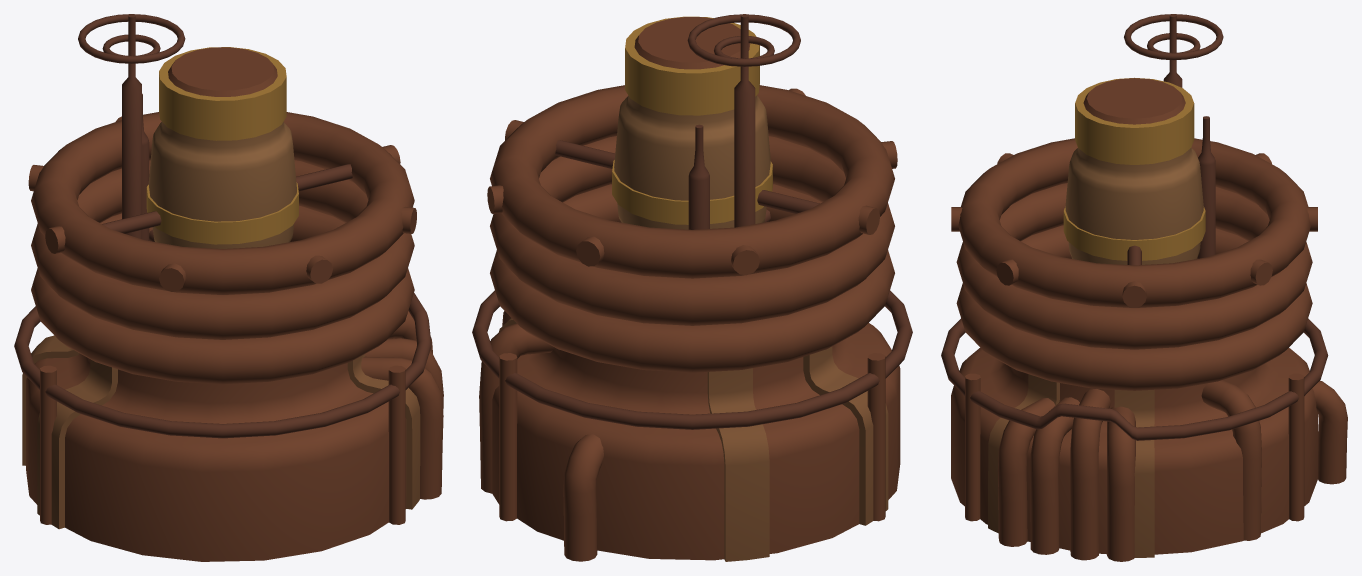
File: BaseTile_Battery.fbx
The picture shows the model from 3 angles, left to right: view 1: azimuth 30°, elevation 25°; view 2: azimuth 150°, elevation 25°; view 3: azimuth 270°, elevation 25°; orthographic projection. The views are drawn at different scales.
Parts seen in each view (by area): view 1: BaseTile_Battery; view 2: BaseTile_Battery; view 3: BaseTile_Battery.
Part boxes in pixels (x1,y1,x2,y2): BaseTile_Battery: (14, 14, 443, 561); BaseTile_Battery: (472, 14, 912, 561); BaseTile_Battery: (941, 14, 1347, 561).
Size of the model in its own units: 1.63 by 1.97 by 1.69.
